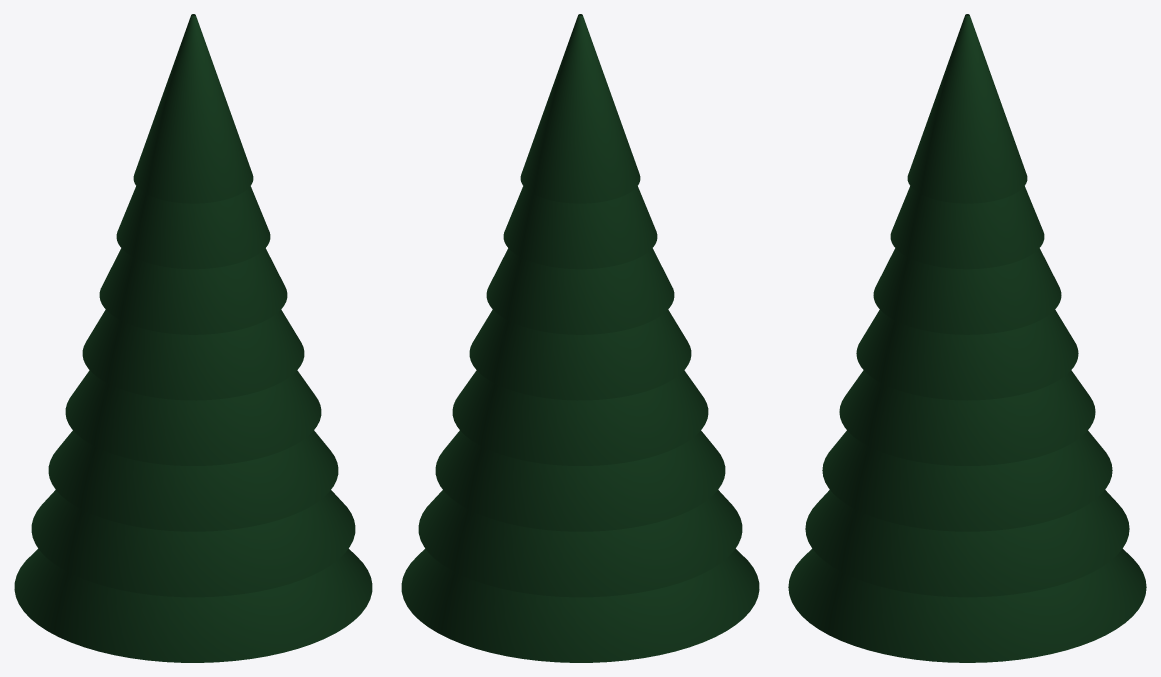
Rendered from Fenyo.obj.
3 renders of one model, left to right at view 1: azimuth 30°, elevation 25°; view 2: azimuth 150°, elevation 25°; view 3: azimuth 270°, elevation 25°, orthographic.
Bounding box in the file's own units: 1.9 × 3.6 × 1.9.
